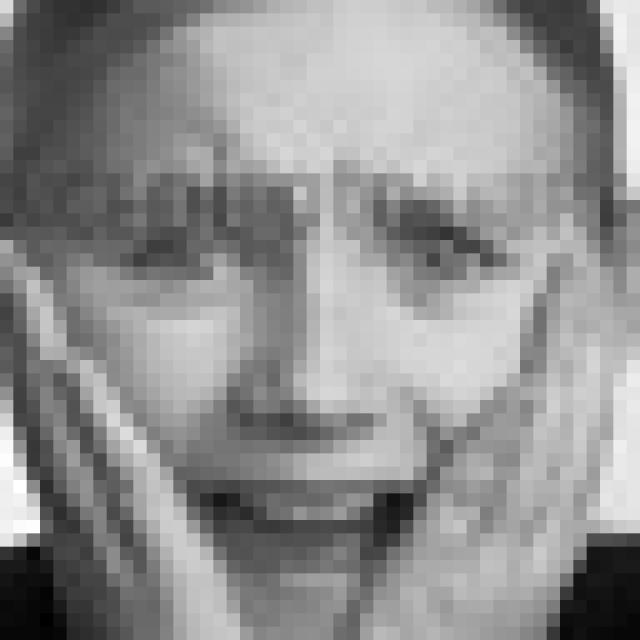fear: (107, 156, 528, 594)
